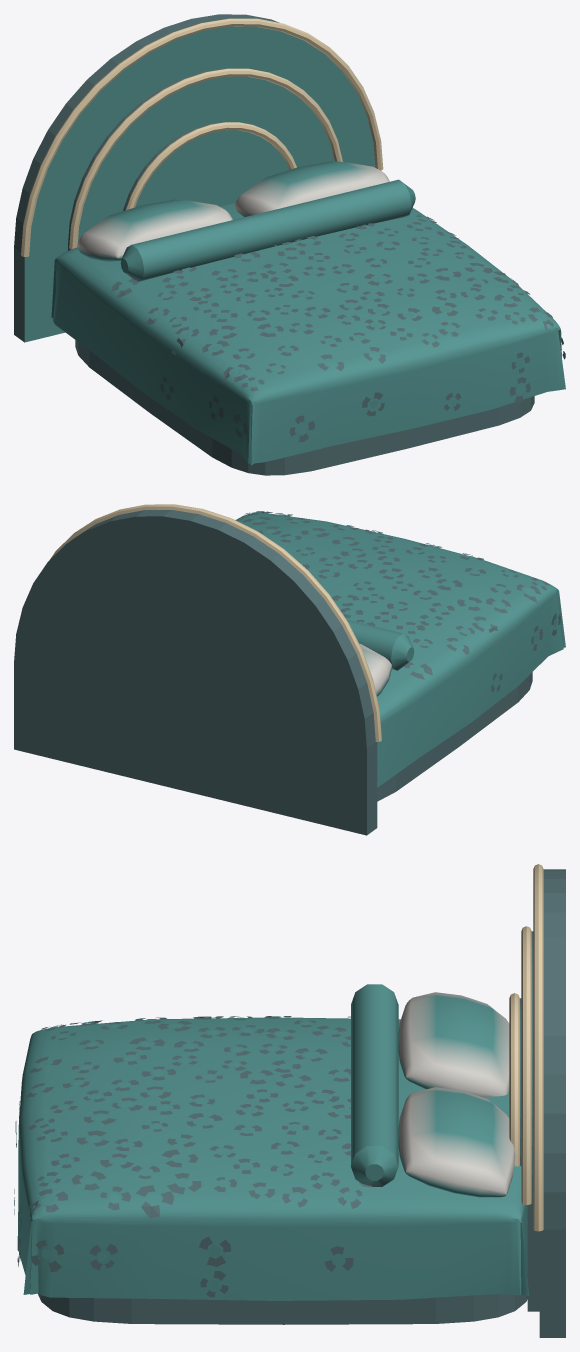
The model's file is KC32__AD_Int_Bed_Leopard.glb.
3 views of the same model, one above another, from view 1: azimuth 30°, elevation 25°; view 2: azimuth 150°, elevation 25°; view 3: azimuth 270°, elevation 25° (orthographic). The views are drawn at different scales.
Visible parts, largest first — view 1: KC32_CORPS__AD_Int_Bed_Leopard, KC32_BRONZE__AD_Int_Bed_Leopard; view 2: KC32_CORPS__AD_Int_Bed_Leopard, KC32_BRONZE__AD_Int_Bed_Leopard; view 3: KC32_CORPS__AD_Int_Bed_Leopard, KC32_BRONZE__AD_Int_Bed_Leopard.
Part boxes in pixels (<box>): KC32_CORPS__AD_Int_Bed_Leopard: <box>14,14,565,475</box>; KC32_BRONZE__AD_Int_Bed_Leopard: <box>21,18,383,256</box>; KC32_CORPS__AD_Int_Bed_Leopard: <box>14,510,565,835</box>; KC32_BRONZE__AD_Int_Bed_Leopard: <box>50,504,381,741</box>; KC32_CORPS__AD_Int_Bed_Leopard: <box>14,869,565,1337</box>; KC32_BRONZE__AD_Int_Bed_Leopard: <box>509,864,543,1231</box>.
Bounding box in the file's own units: 2.16 × 1.58 × 2.31.
